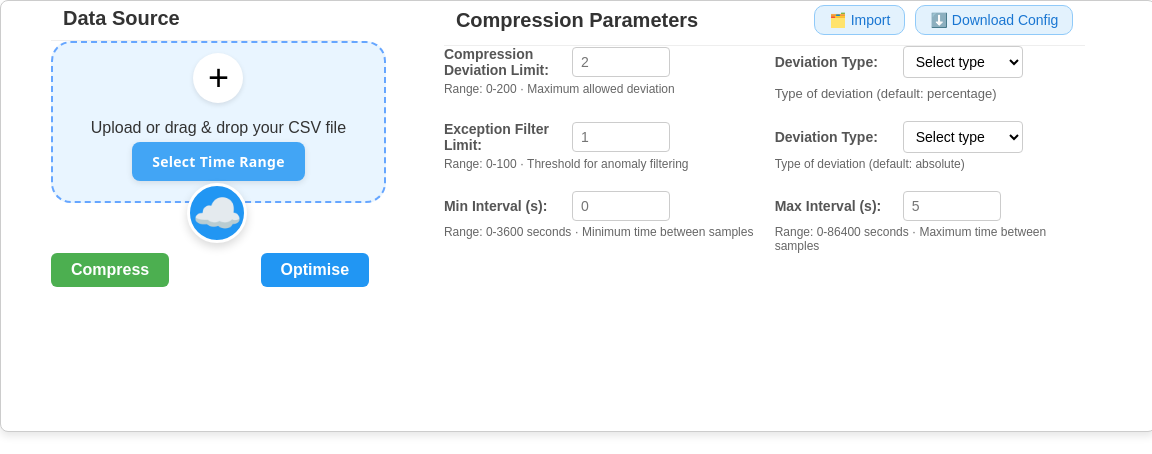
Scenario: ConfigPanel Component Tests › file validation › shows error when compressing without file
This screenshot has width=1152, height=454.
Click the button "Compress".
click(110, 270)  # box [51,253,169,287]
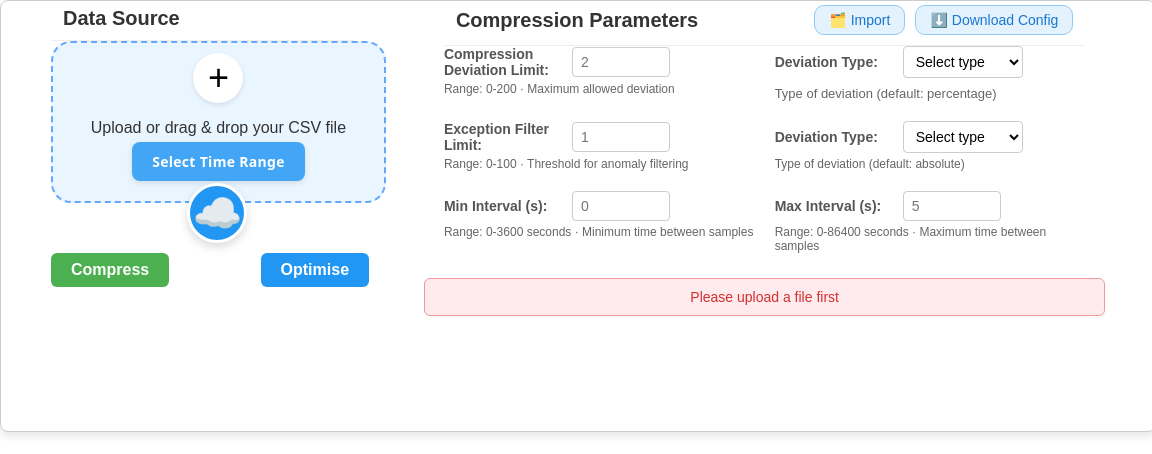
Check: the text "Please upload a file first" is shown, box [424,278,1105,316]
